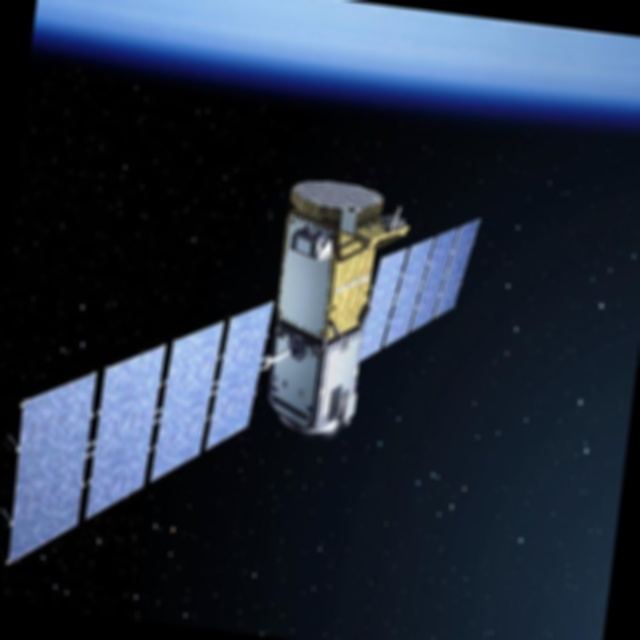satellite: (0, 123, 490, 625)
